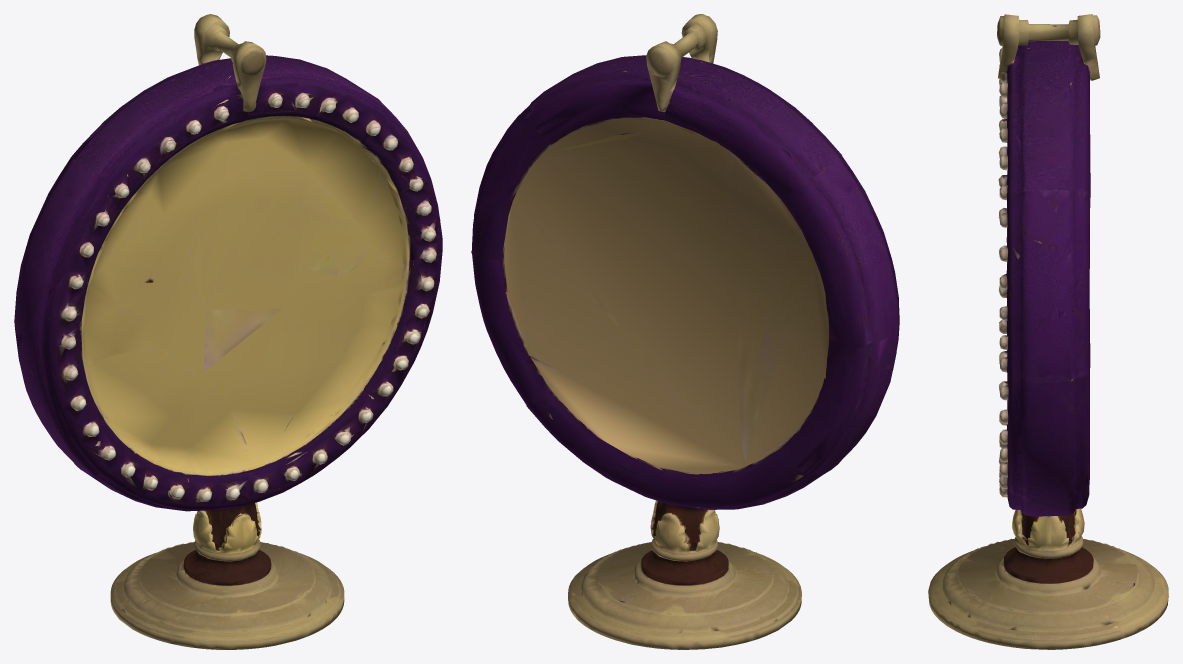
File: prizeWheel.glb
The picture shows the model from 3 angles, left to right: view 1: azimuth 30°, elevation 25°; view 2: azimuth 150°, elevation 25°; view 3: azimuth 270°, elevation 25°; orthographic projection. The views are drawn at different scales.
Parts seen in each view (by area): view 1: Mesh_0; view 2: Mesh_0; view 3: Mesh_0.
Part boxes in pixels (box(x1,y1,x2,y2)): Mesh_0: box(14, 14, 442, 649); Mesh_0: box(471, 14, 899, 649); Mesh_0: box(928, 14, 1168, 649).
Size of the model in its own units: 2.7 by 3.6 by 1.34.
Materials: 1 (1 with a texture image).
